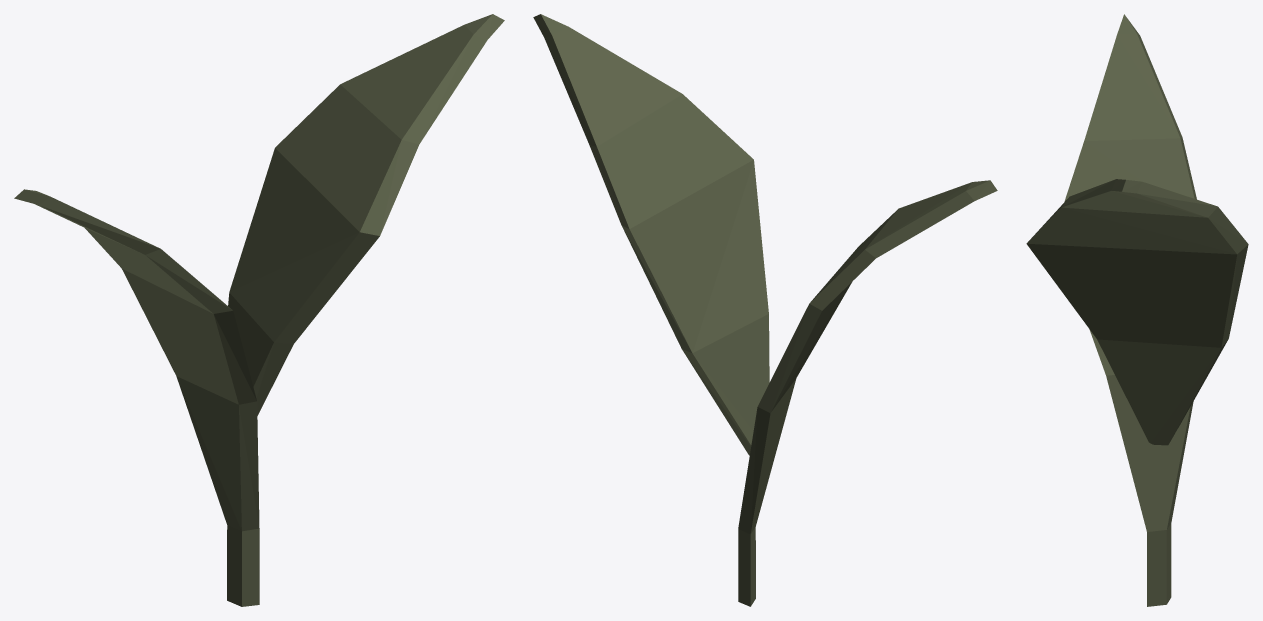
File: crop_cabbage.s1.glb
3 views of the same model, side by side, from view 1: azimuth 30°, elevation 25°; view 2: azimuth 150°, elevation 25°; view 3: azimuth 270°, elevation 25° (orthographic). The views are drawn at different scales.
Bounding box in the file's own units: 0.2645 × 0.2817 × 0.1063.
